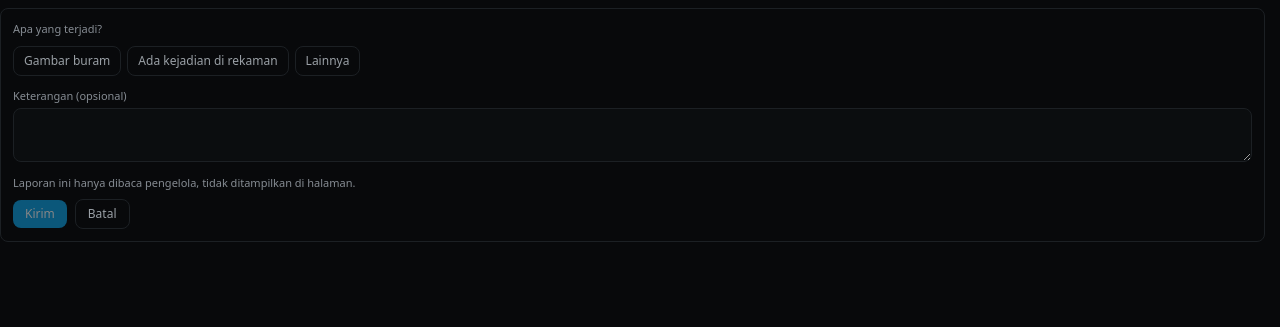
it: CameraReportForm › asks when it happened only for an incident
The width and height of the screenshot is (1280, 327).
What coordinates should you click on to do the following:
click the button "Gambar buram"
I would click on:
 (67, 60)
Its box is top-left (13, 46), bottom-right (121, 76).
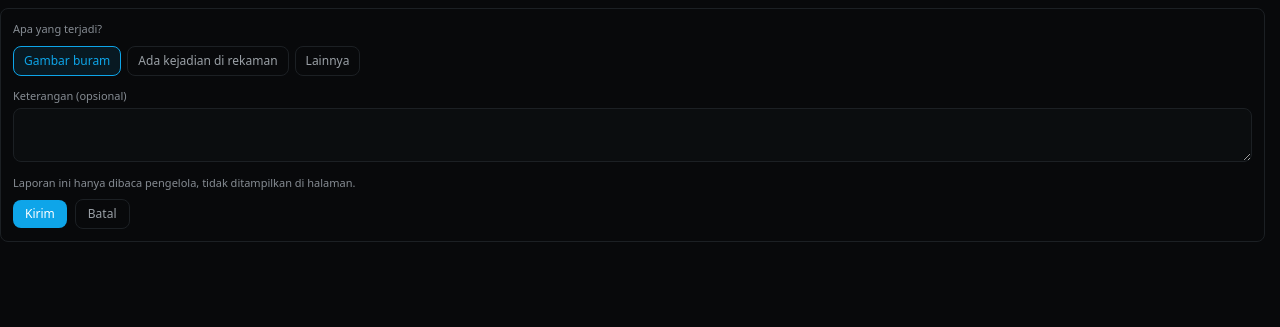
Expected: the field labelled "Perkiraan waktu kejadian" is not shown
What coordinates should you click on to do the following:
click the button "Ada kejadian di rekaman"
I would click on:
 (208, 60)
Its box is top-left (127, 46), bottom-right (289, 76).
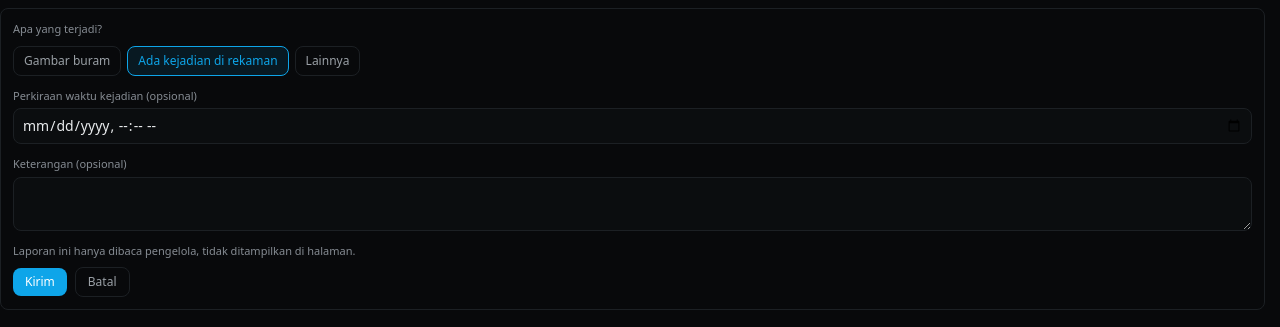
Expected: the field labelled "Perkiraan waktu kejadian (opsional)" is shown, top-left (13, 108), bottom-right (1252, 144)
